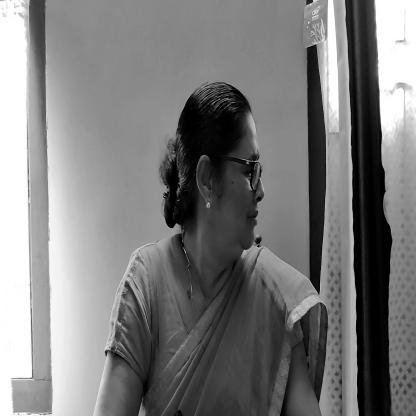Distracted: (172, 83, 264, 269)
